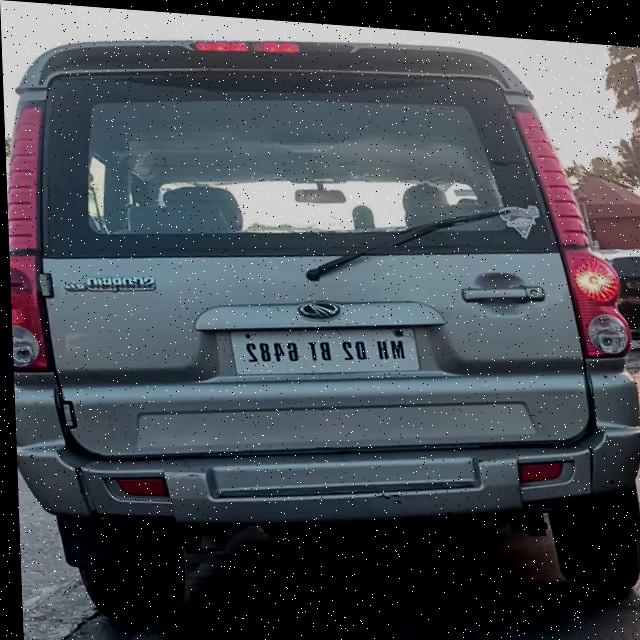plate: (227, 309, 420, 383)
